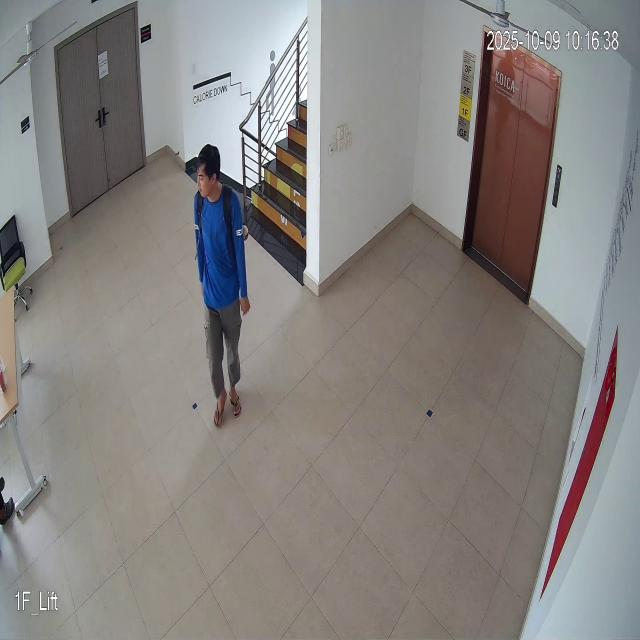face: (190, 140, 228, 211)
